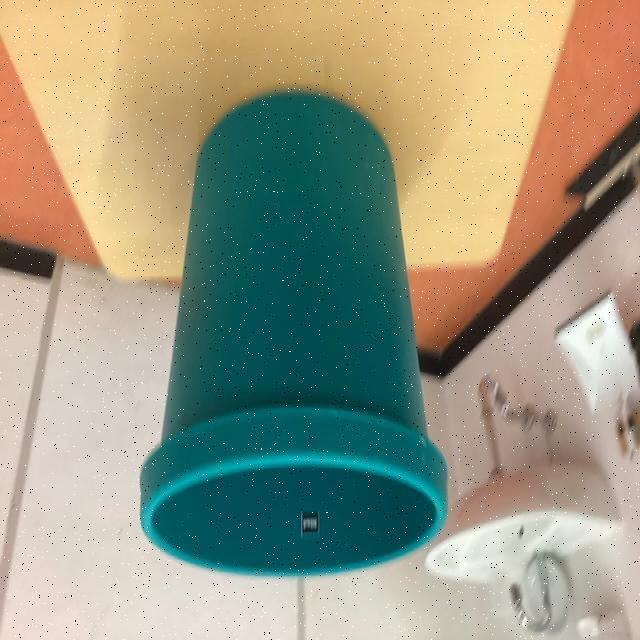garbage container: (128, 69, 457, 611)
